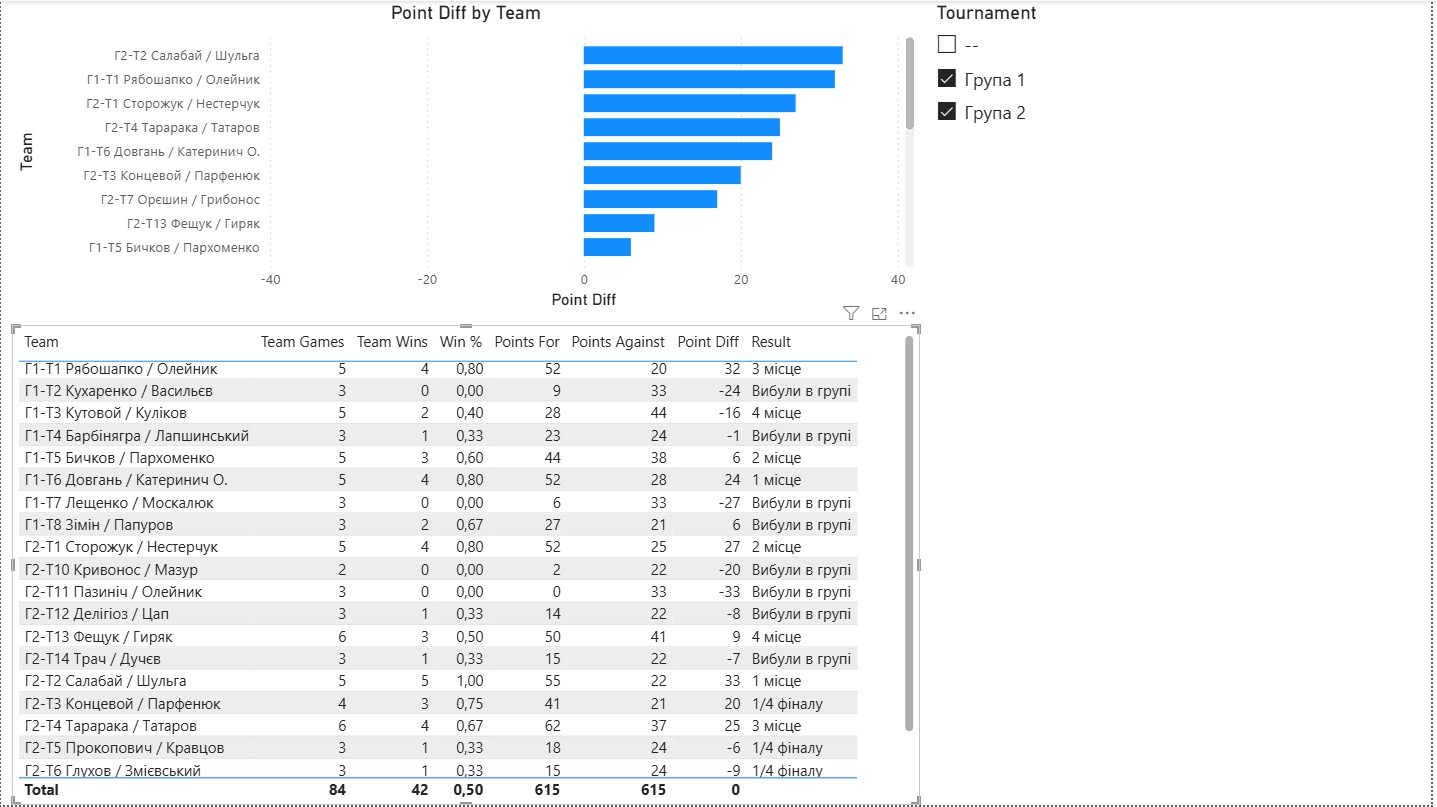

Layout of this report page (visuals, bound fields, positions):
{"tool":"powerbi","page":{"name":"Команди","canvas":[1280,720],"ordinal":2},"visuals":[{"type":"barChart","fields":{"Category":["Dim_Teams.Team"],"Y":["_Measures.Point Diff"]},"box":[9.7,0,813.1,280.1],"z":0},{"type":"tableEx","fields":{"Values":["Dim_Teams.Team","_Measures.Team Games","_Measures.Team Wins","_Measures.Win %","_Measures.Points For","_Measures.Points Against","_Measures.Point Diff","Dim_Teams.Result"]},"box":[9.7,289.8,813.1,429.9],"z":1000},{"type":"listSlicer","fields":{"Values":["Dim_Teams.Tournament"]},"box":[833,0,447,280],"z":2000}]}

Visuals, with their boxes in screenshot pixels (x1, y1, x2, y2), scaled from the page's 1280x720 canvas onto the 1437x807 screenshot:
barChart - Dim_Teams.Team x _Measures.Point Diff: 11:0:924:314
tableEx - Dim_Teams.Team x _Measures.Team Games: 11:325:924:806
listSlicer - Dim_Teams.Tournament: 935:0:1436:314
